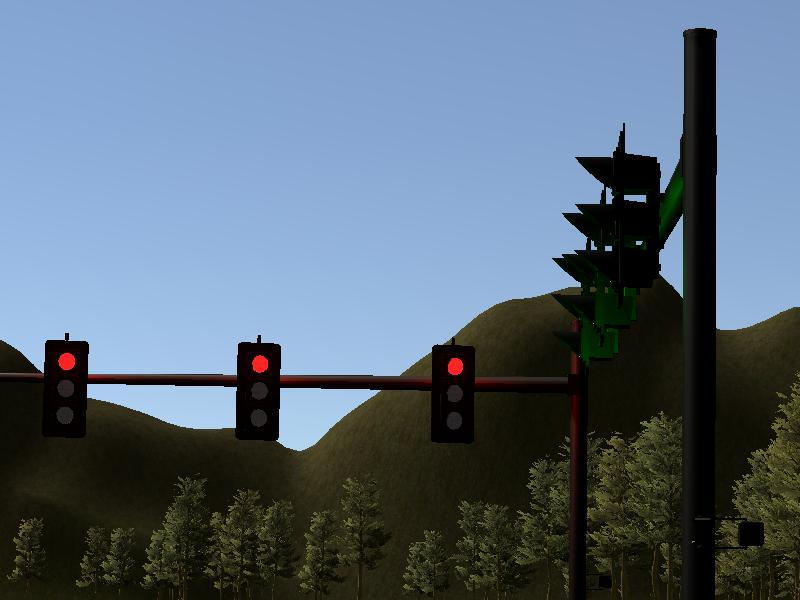Red: (238, 340, 278, 440), (432, 346, 474, 441), (46, 341, 87, 437)
